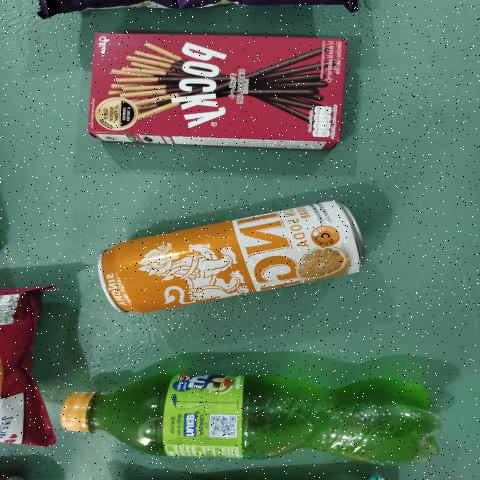fanta_green: (56, 369, 440, 474)
pokki: (85, 33, 344, 150)
singha_yellow: (91, 198, 350, 322)
